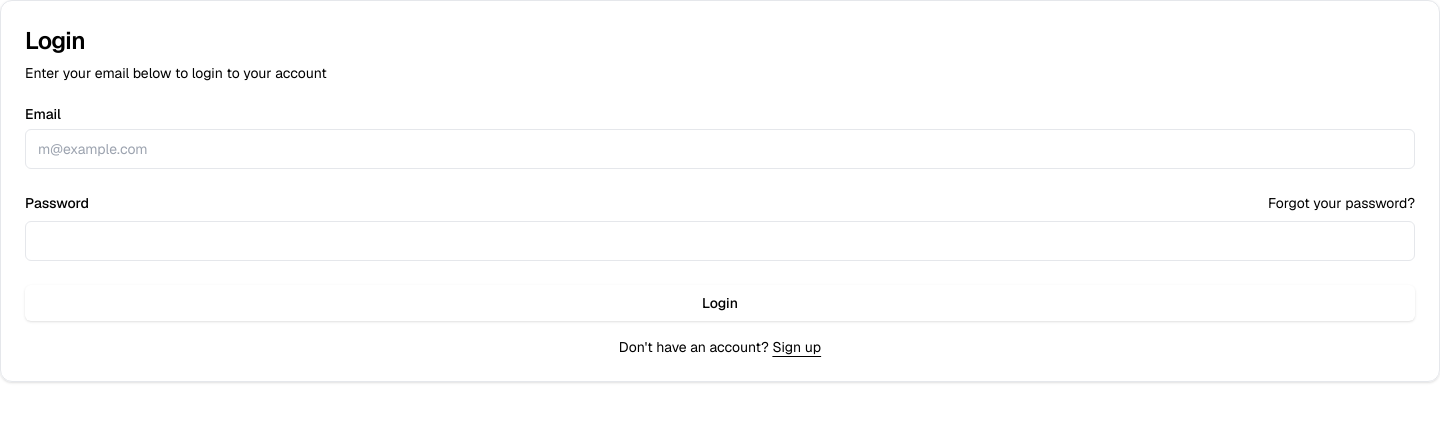
Test case: LoginForm › показывает ошибку при неудачном логине
Type "a@a.com" into the field labelled "Email" at (720, 149), box [25,129,1415,169]
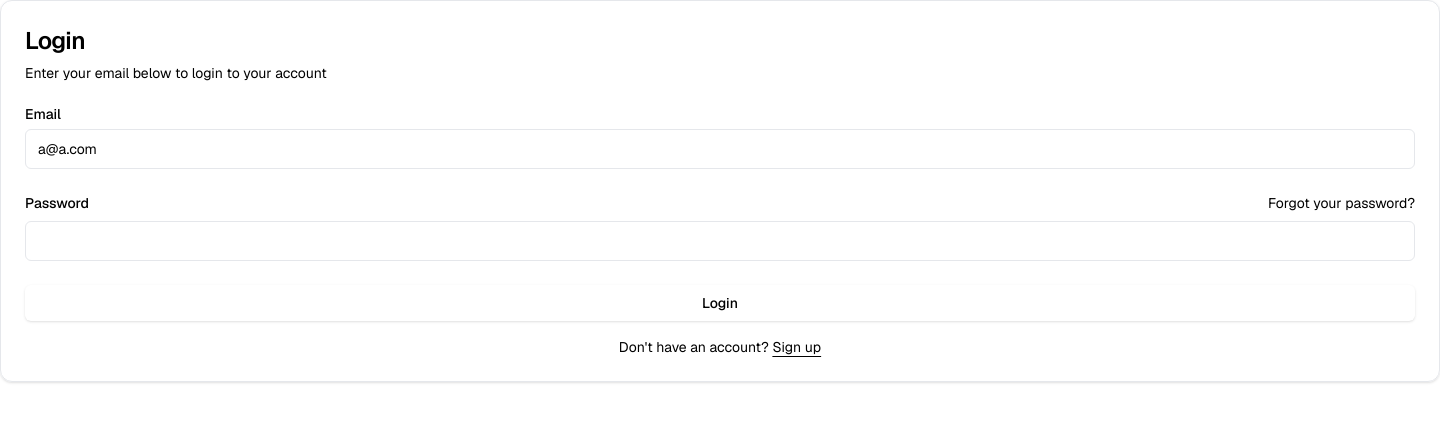
Type "123" into the password field labelled "Password" at (720, 241), box [25,221,1415,261]
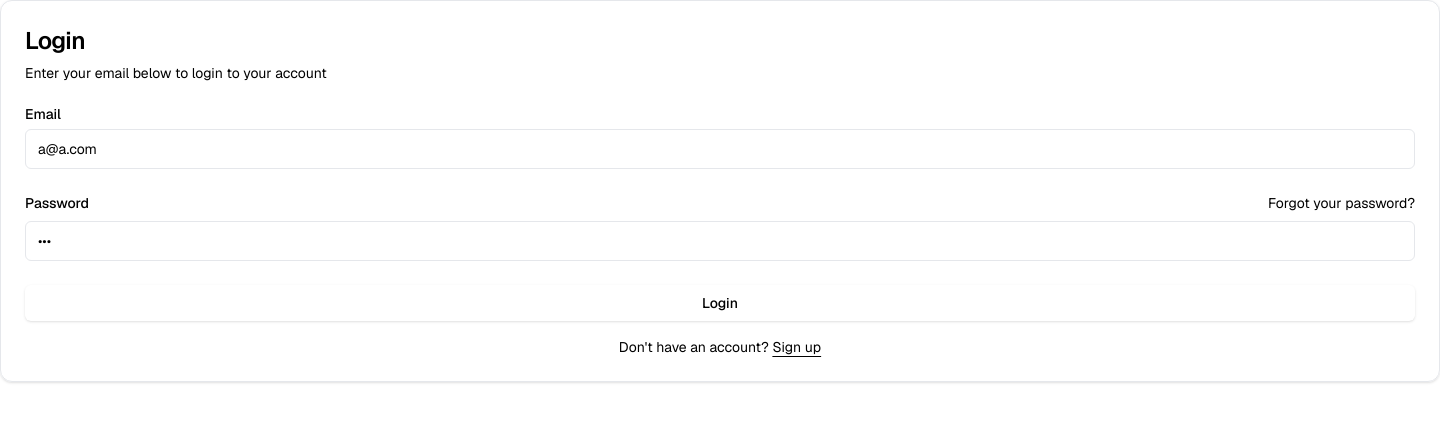
Submit the form with test id "login-form", box [25,107,1415,357]
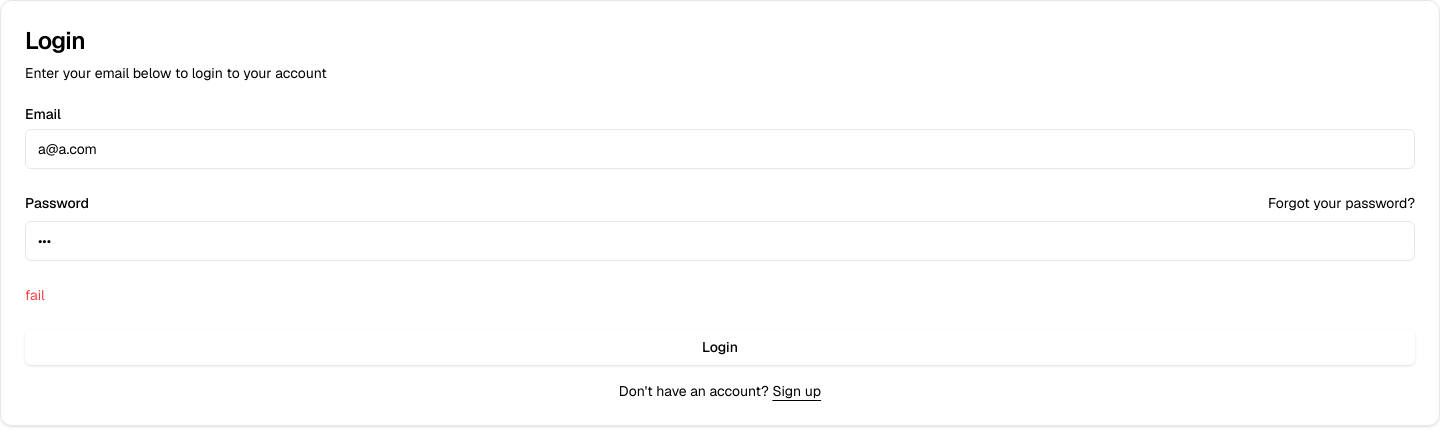
Result: the text "fail" is shown at [25,286,45,304]
